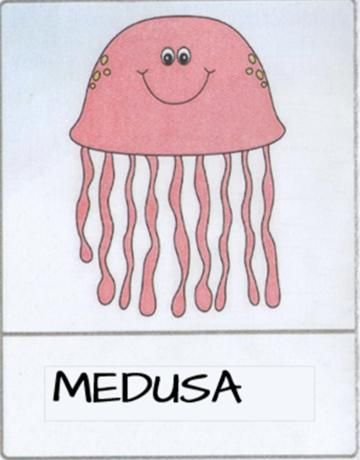medusa: (4, 1, 356, 459)
